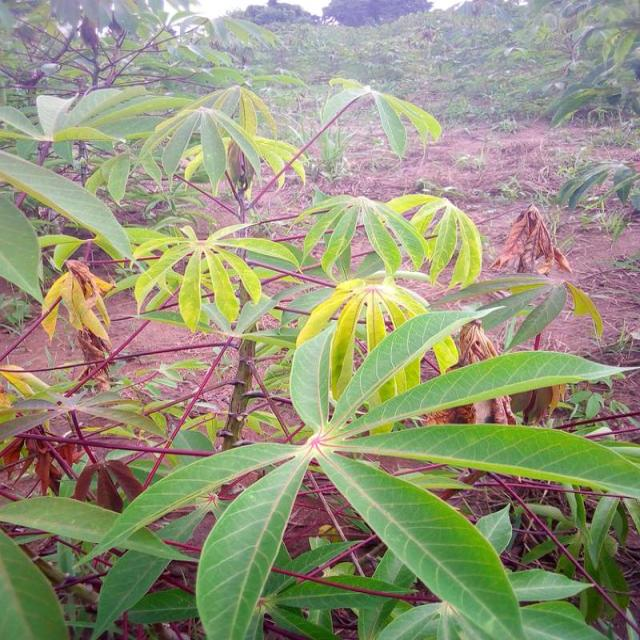cassava leaf: (2, 6, 640, 638), (316, 446, 526, 638), (195, 447, 313, 638)
